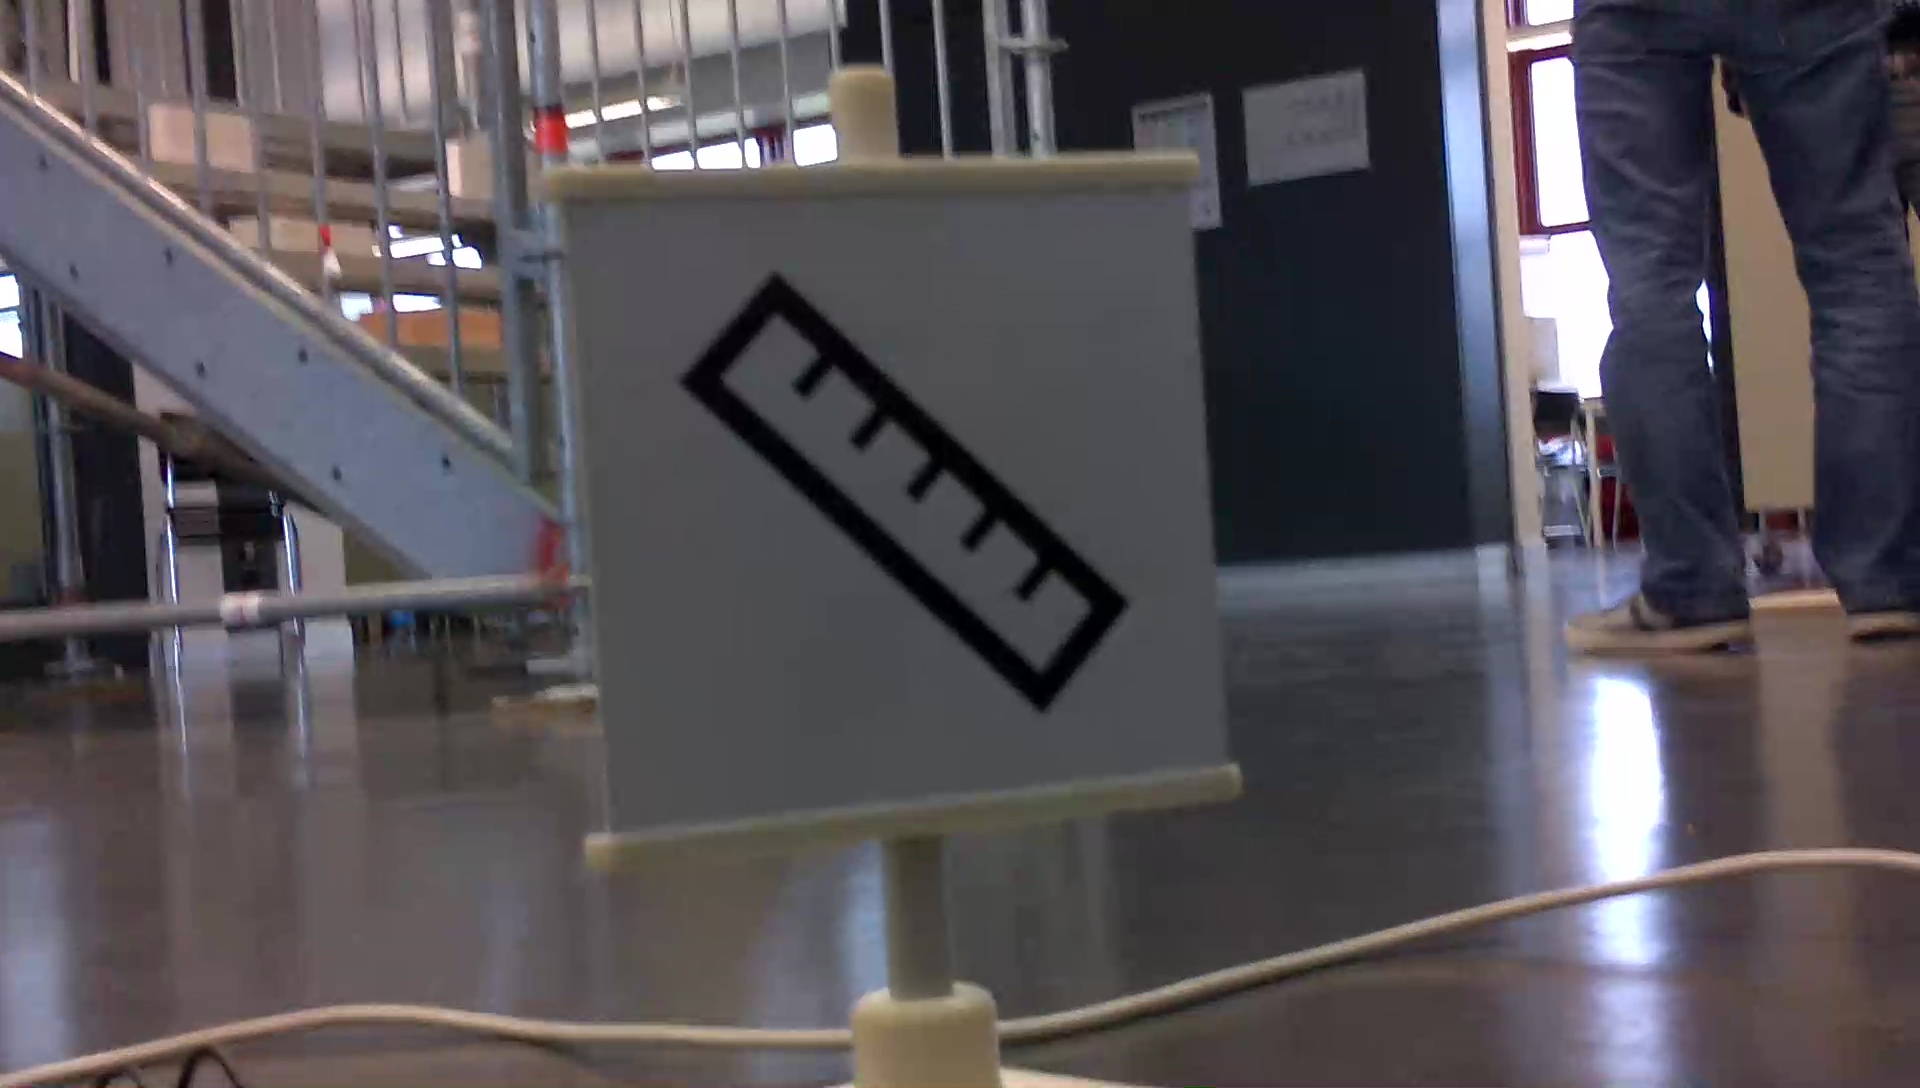ruler: (680, 266, 1133, 735)
